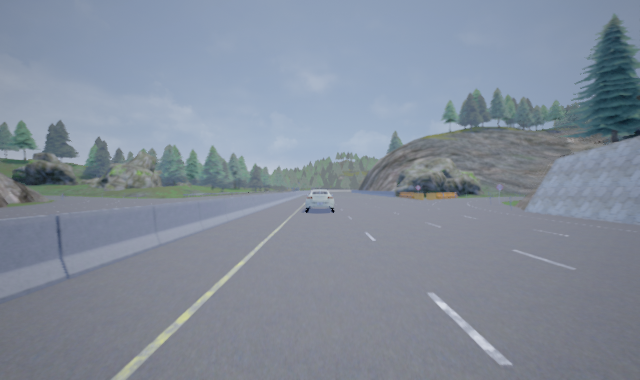vehicle: (304, 189, 335, 213)
